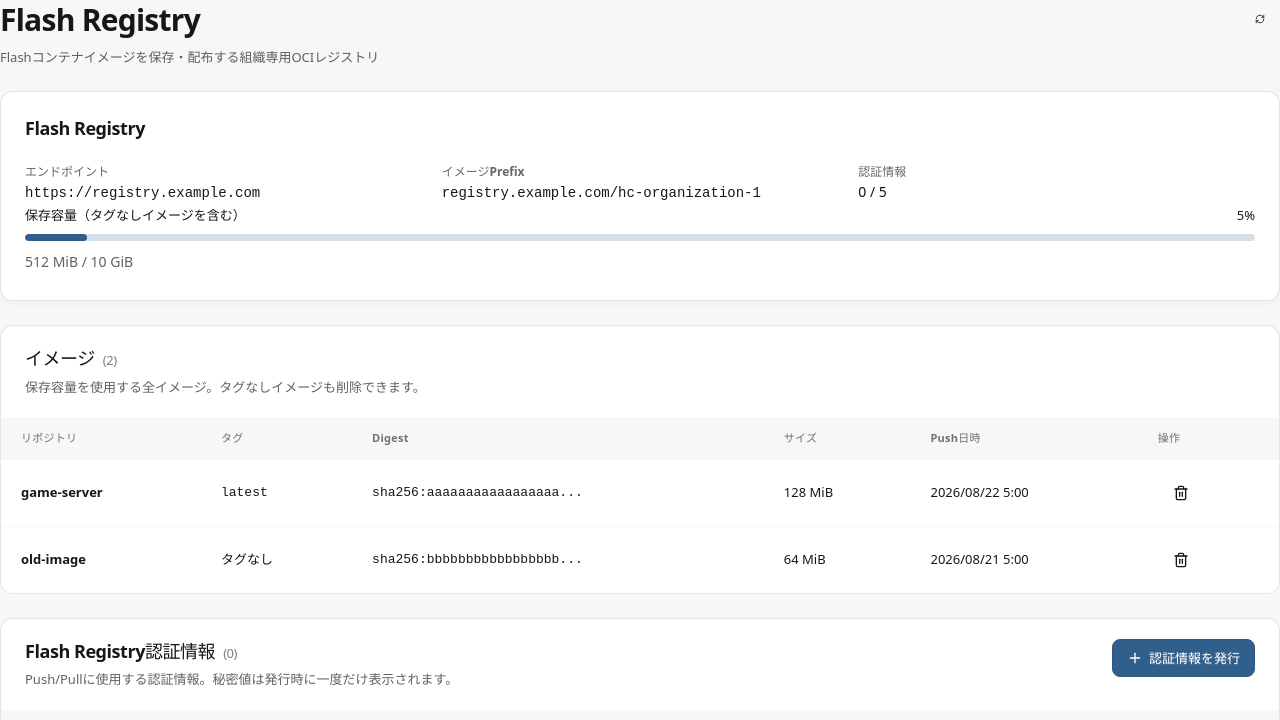
RegistryPage › 確認後に選択したコンテナイメージを削除する
Click the button named "game-server:latestを削除".
click(1181, 492)  # box [1158,474,1204,512]
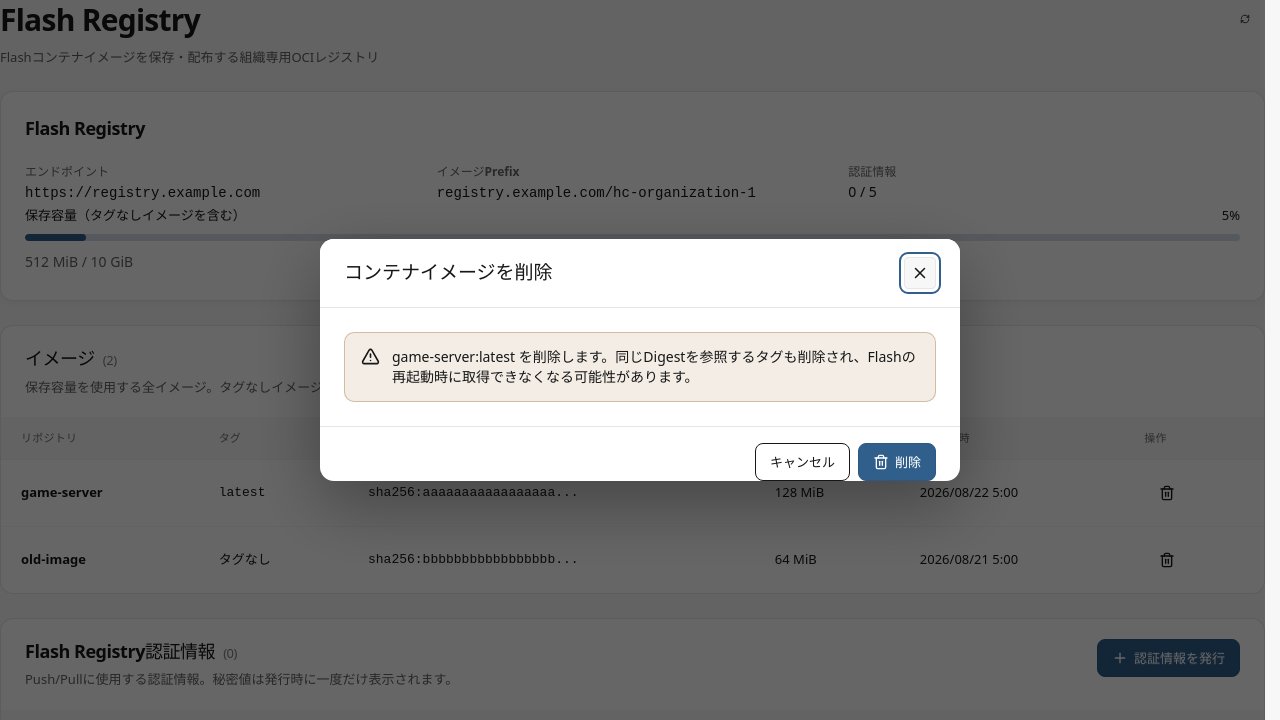
Expected: the dialog "コンテナイメージを削除" is shown, [320,239,960,481]
Click the button "削除".
click(897, 462)  # box [858,443,936,481]
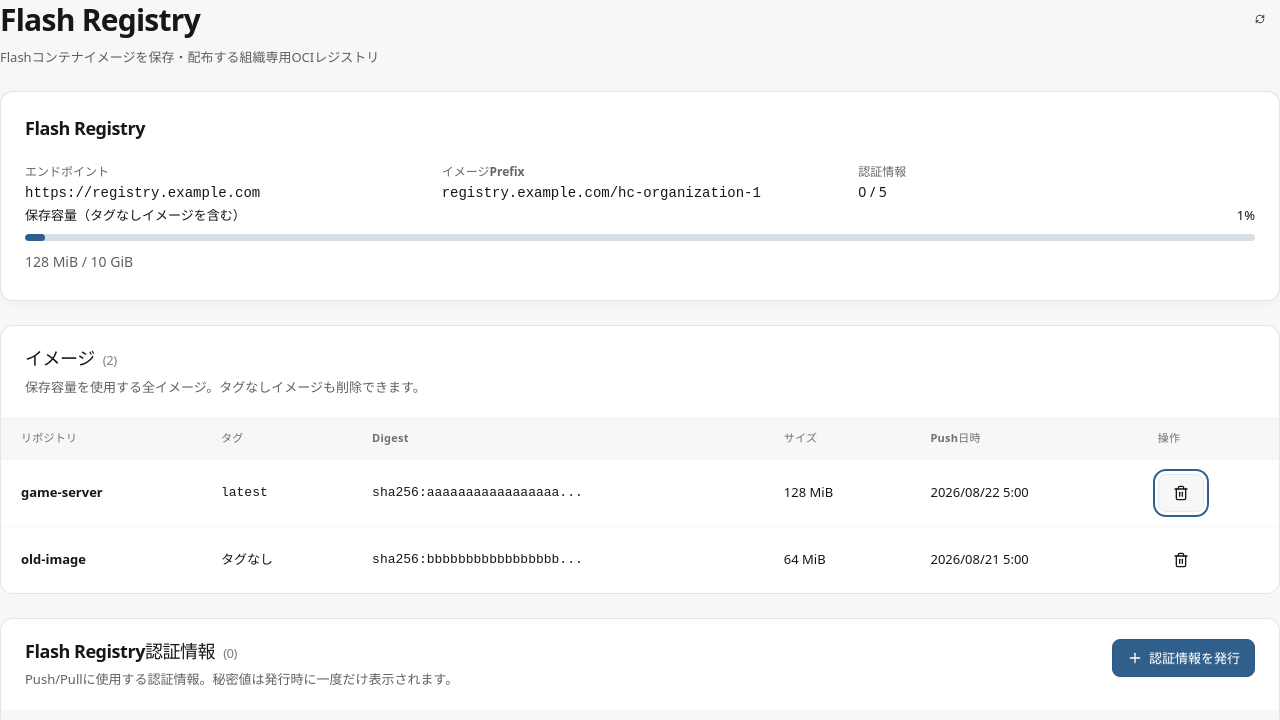
Expected: the text "128 MiB / 10 GiB" is shown, [25,252,133,271]
